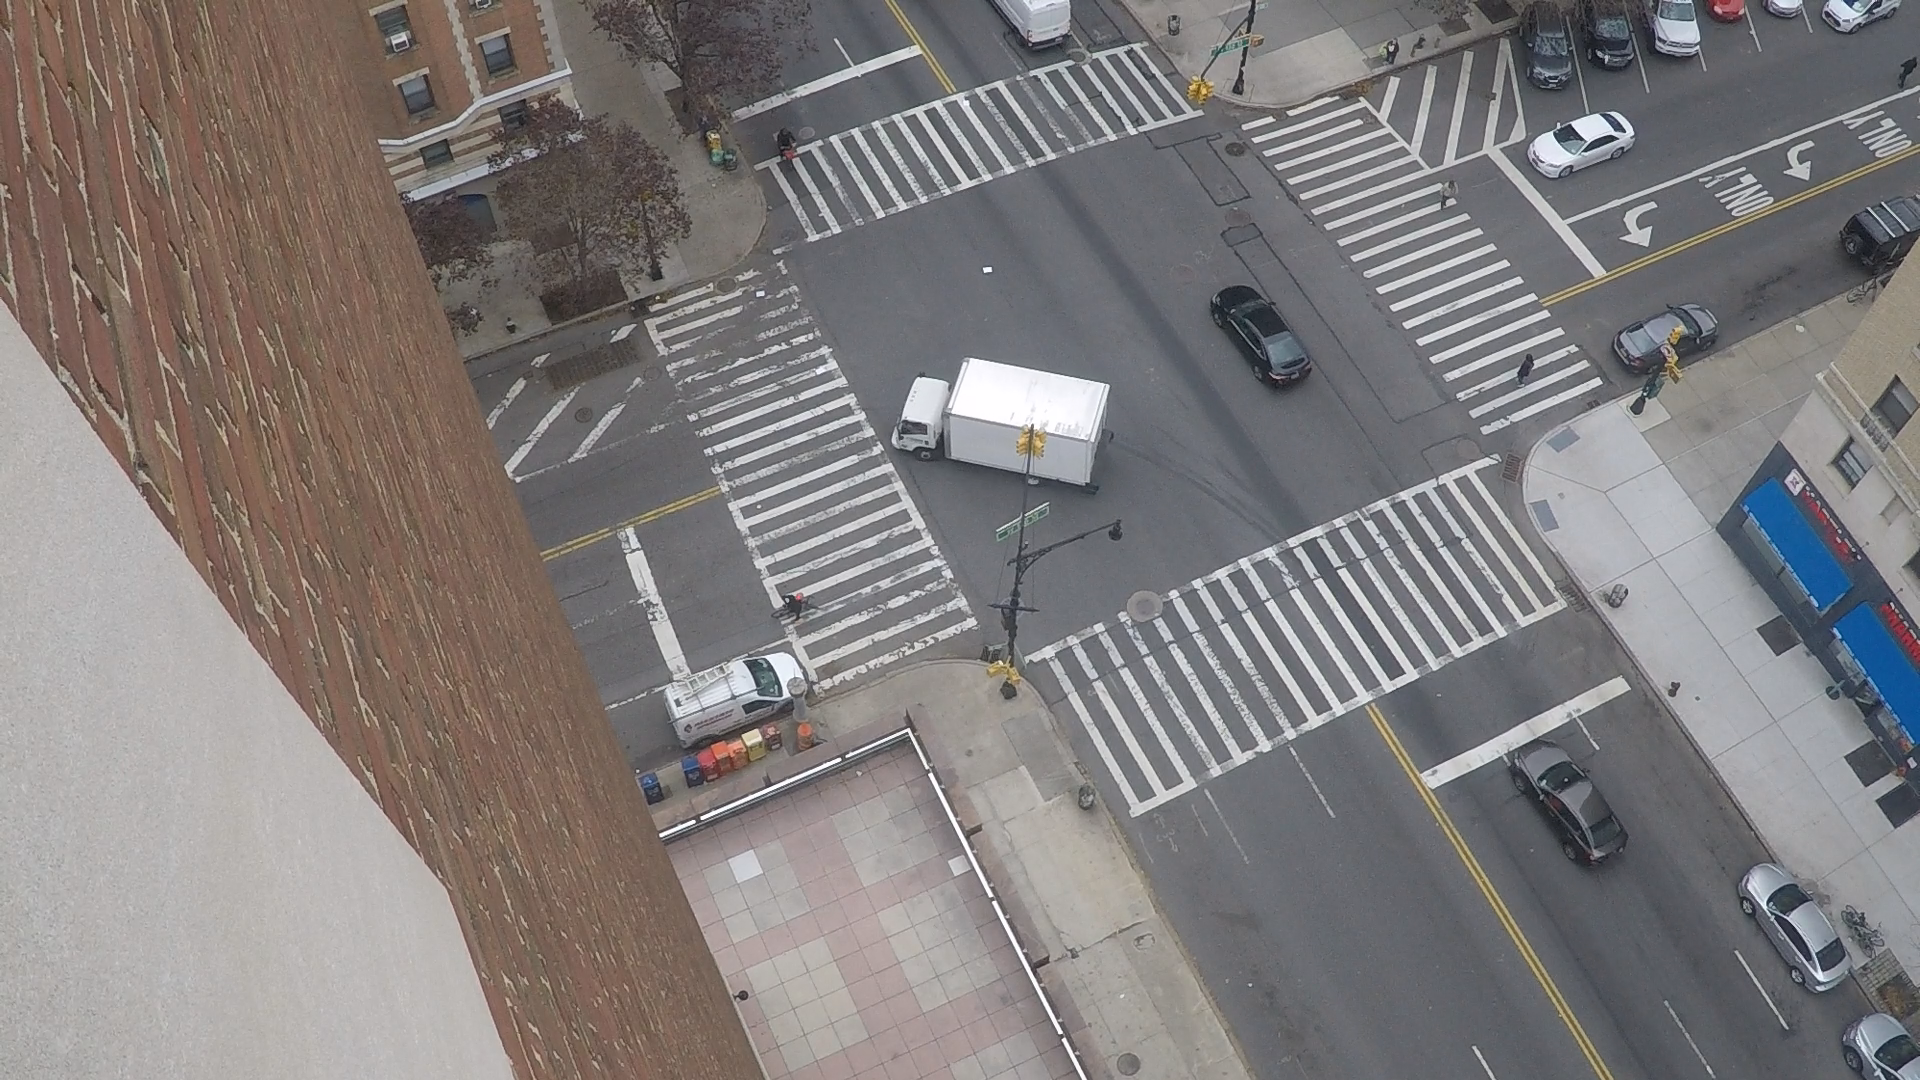Car: (986, 0, 1015, 33), (1635, 0, 1636, 18), (1760, 0, 1762, 8)
Truck: (913, 454, 916, 460)
